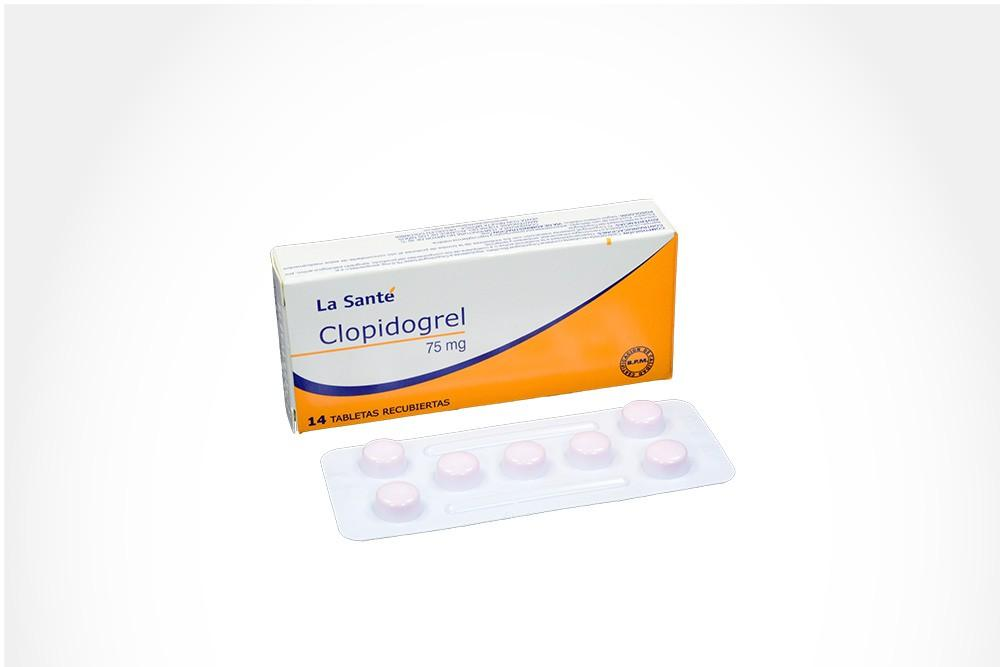LaSante: (290, 241, 676, 429)
